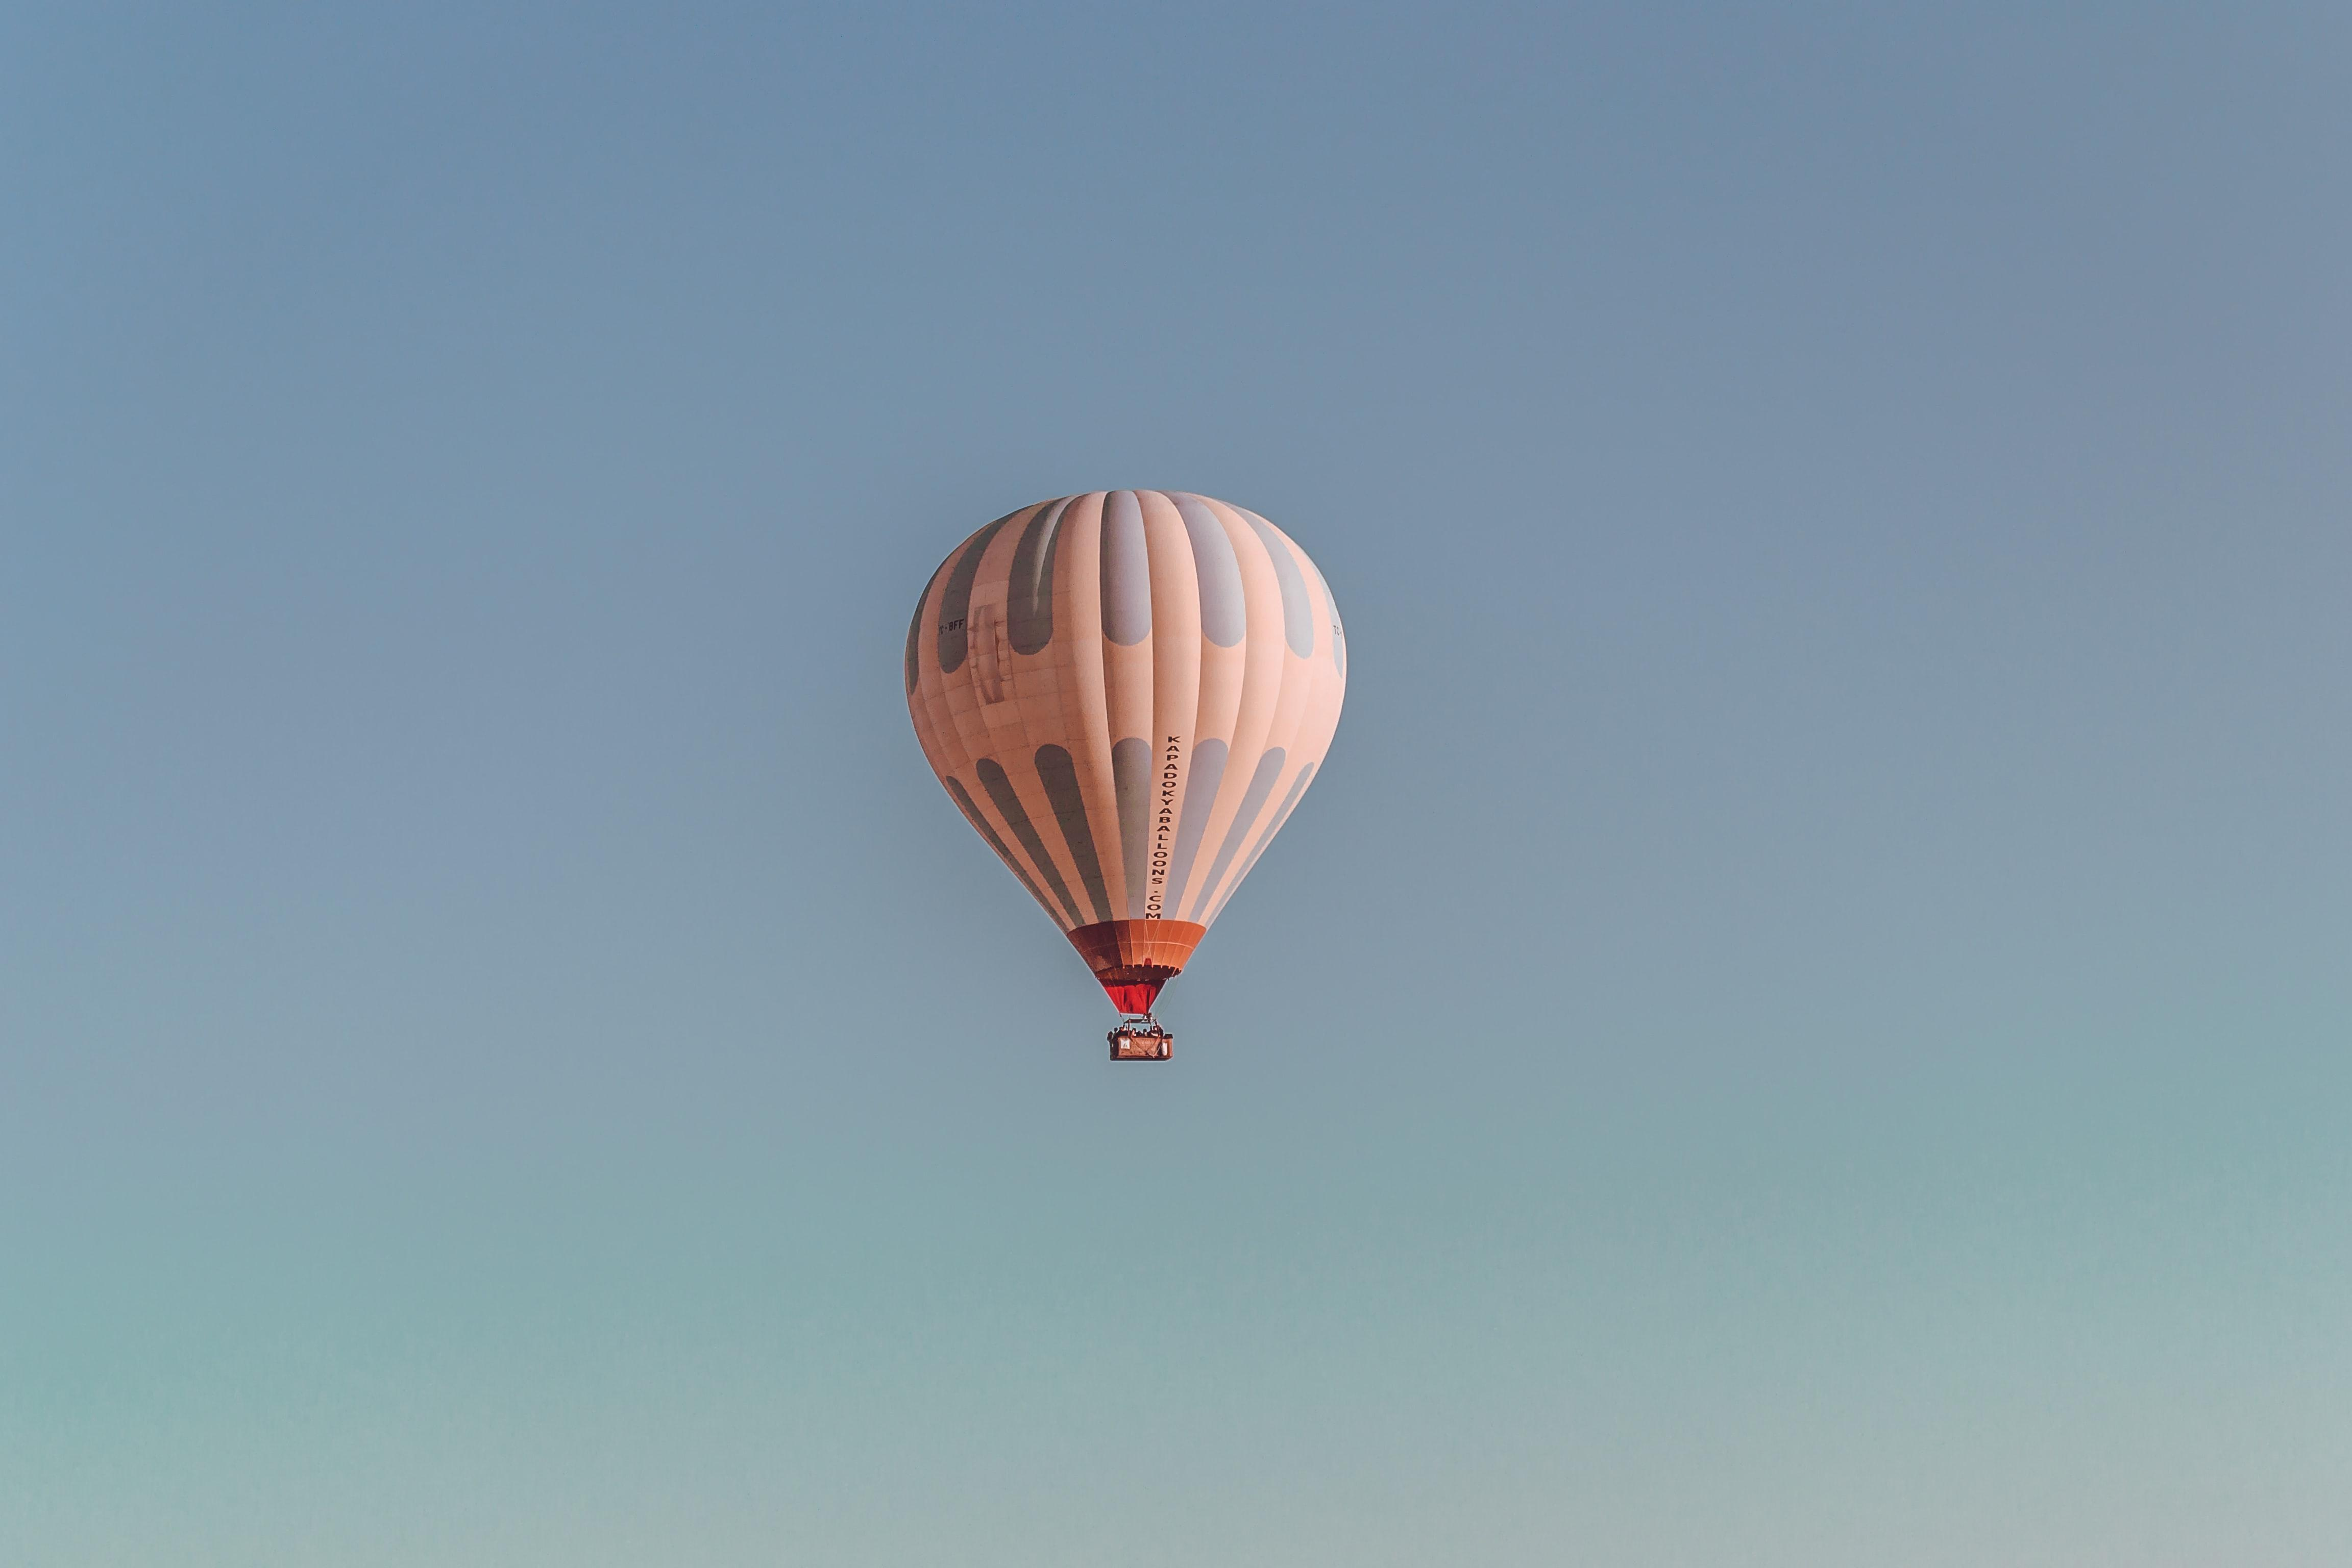hot air ballon: (905, 499, 1346, 1059)
